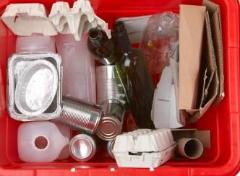glass: (112, 20, 170, 136)
